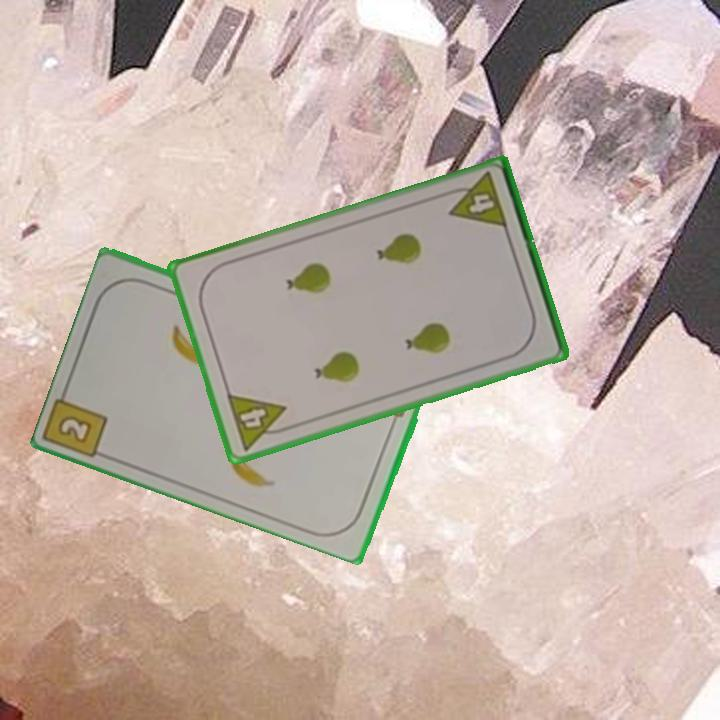2b: (54, 411, 96, 446)
4p: (223, 390, 295, 454), (441, 169, 511, 232)
